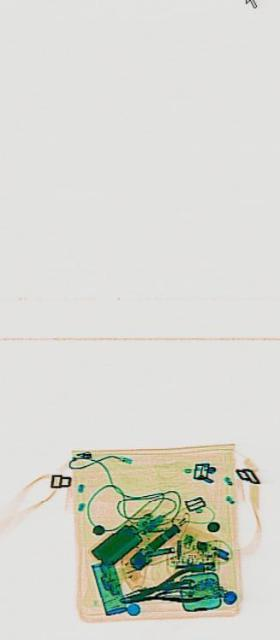Pliers: (116, 558, 204, 618)
